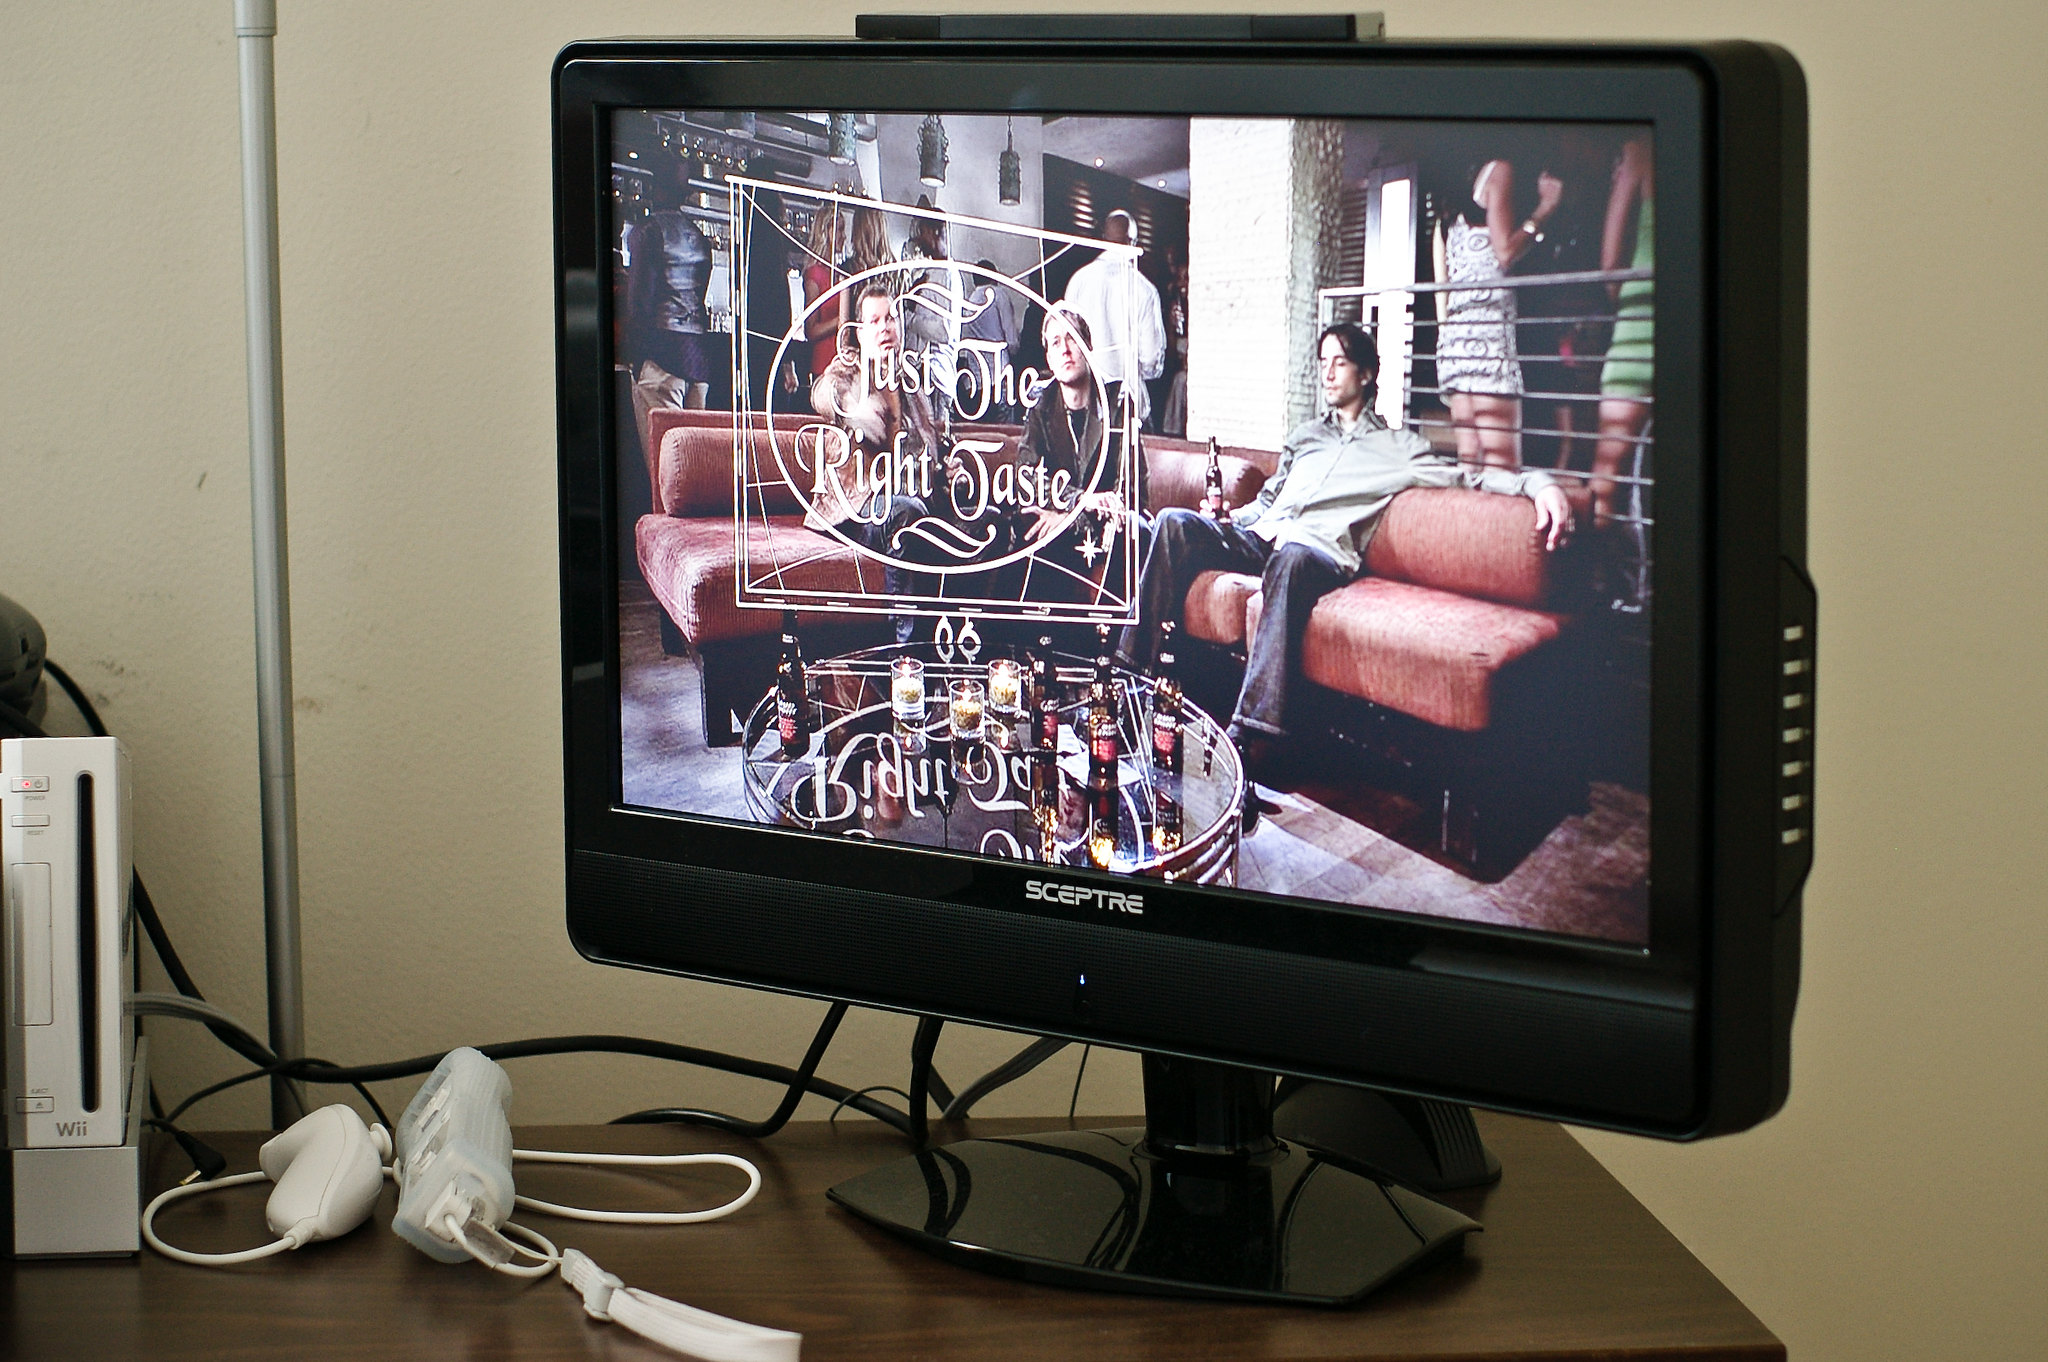tv monitor: (555, 35, 1800, 1120)
